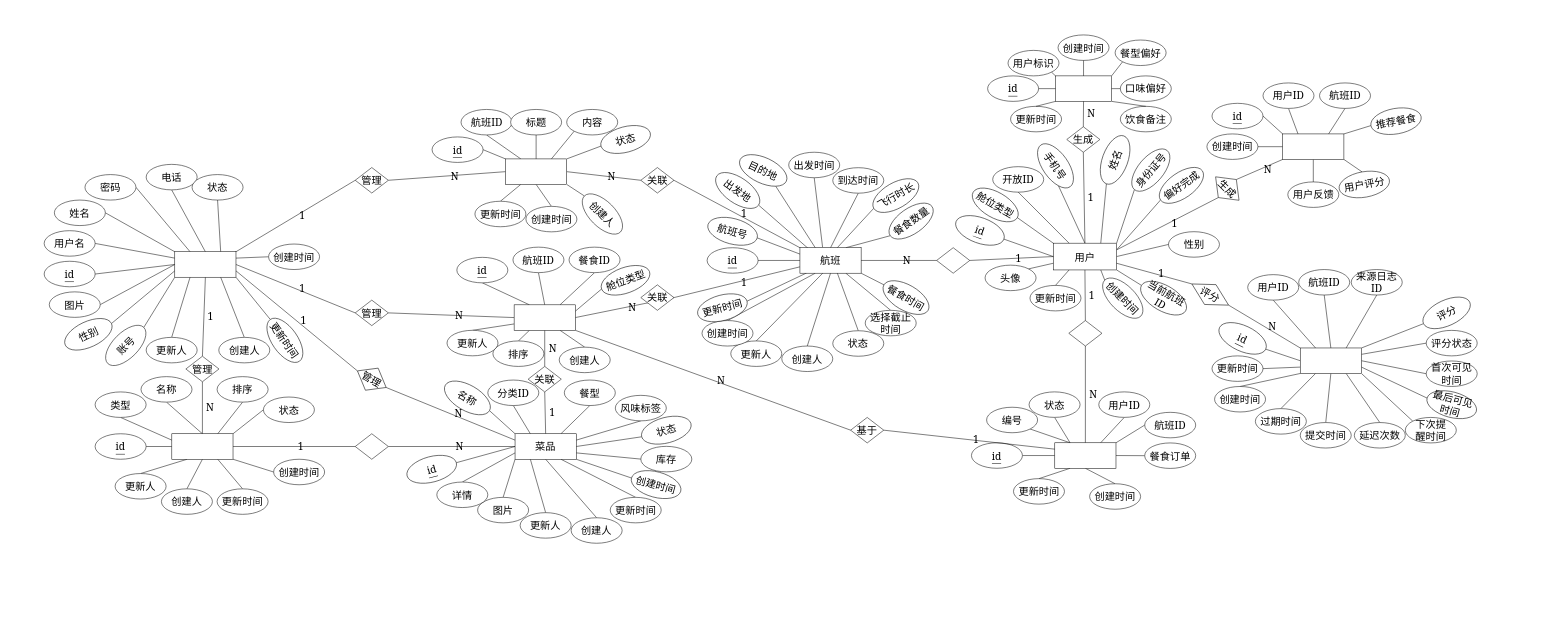
Image size: 1563x640. Some labels were removed from this diagram. Here are the shapes that lost their labels. From the top down, the centre of each, then its label:
At (x=1083, y=88): "用户偏好".
At (x=1313, y=146): "推荐日志".
At (x=536, y=171): "航班公告".
At (x=205, y=264): "员工".
At (x=953, y=260): "乘坐".
At (x=544, y=317): "航班餐食".
At (x=1085, y=333): "预选".
At (x=1330, y=360): "航班服务评分".
At (x=202, y=446): "分类".
At (x=371, y=446): "包含".
At (x=1085, y=455): "餐食选择".
